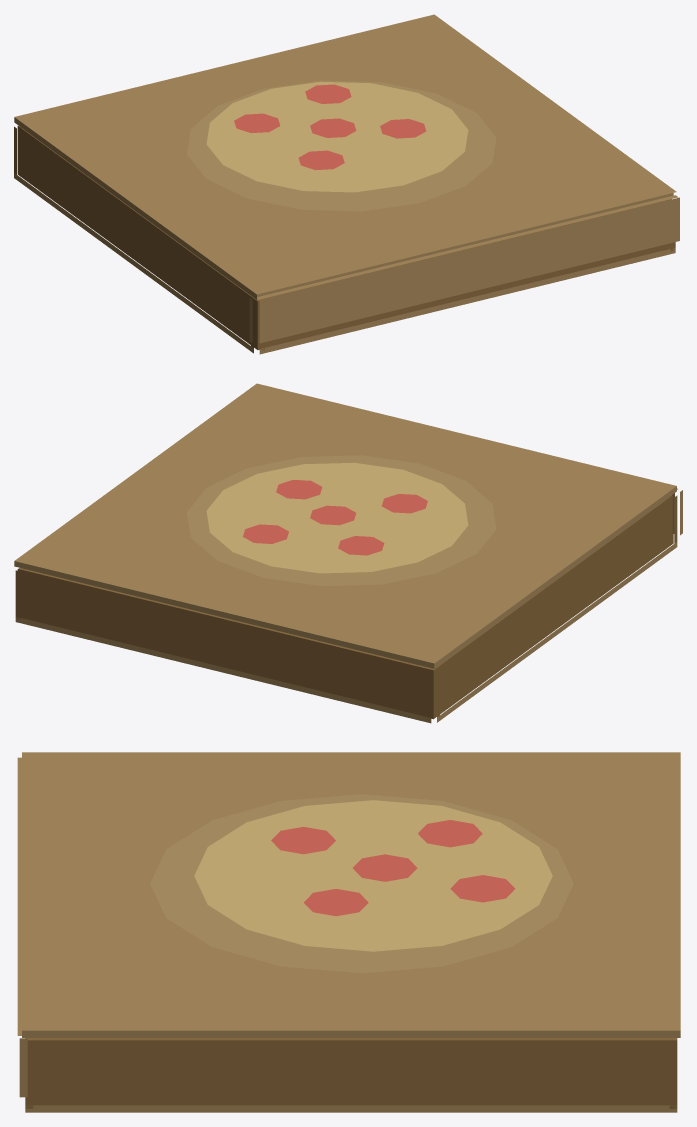
The model's file is caixa_pizza.glb.
The picture shows the model from 3 angles, top to bottom: view 1: azimuth 30°, elevation 25°; view 2: azimuth 150°, elevation 25°; view 3: azimuth 270°, elevation 25°; orthographic projection. The views are drawn at different scales.
Parts seen in each view (by area): view 1: tampa_malha, base; view 2: tampa_malha, base; view 3: tampa_malha, base.
Part boxes in pixels (x1,y1,x2,y2): tampa_malha: (14, 14, 679, 343); base: (14, 125, 675, 354); tampa_malha: (14, 383, 682, 668); base: (15, 495, 677, 723); tampa_malha: (17, 752, 680, 1097); base: (25, 1038, 677, 1112).
Bounding box in the file's own units: 0.4138 × 0.0727 × 0.4104.
